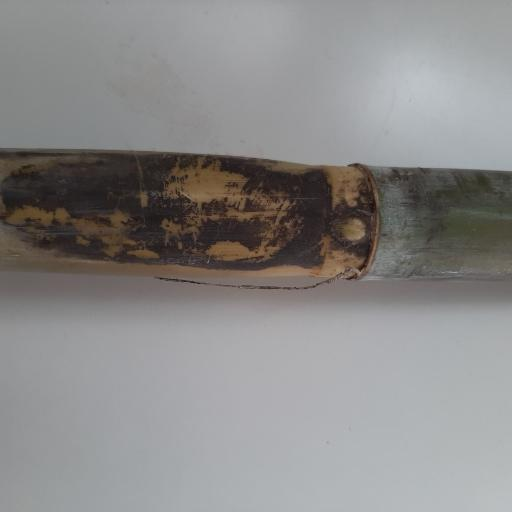Bud: (331, 211, 371, 245)
